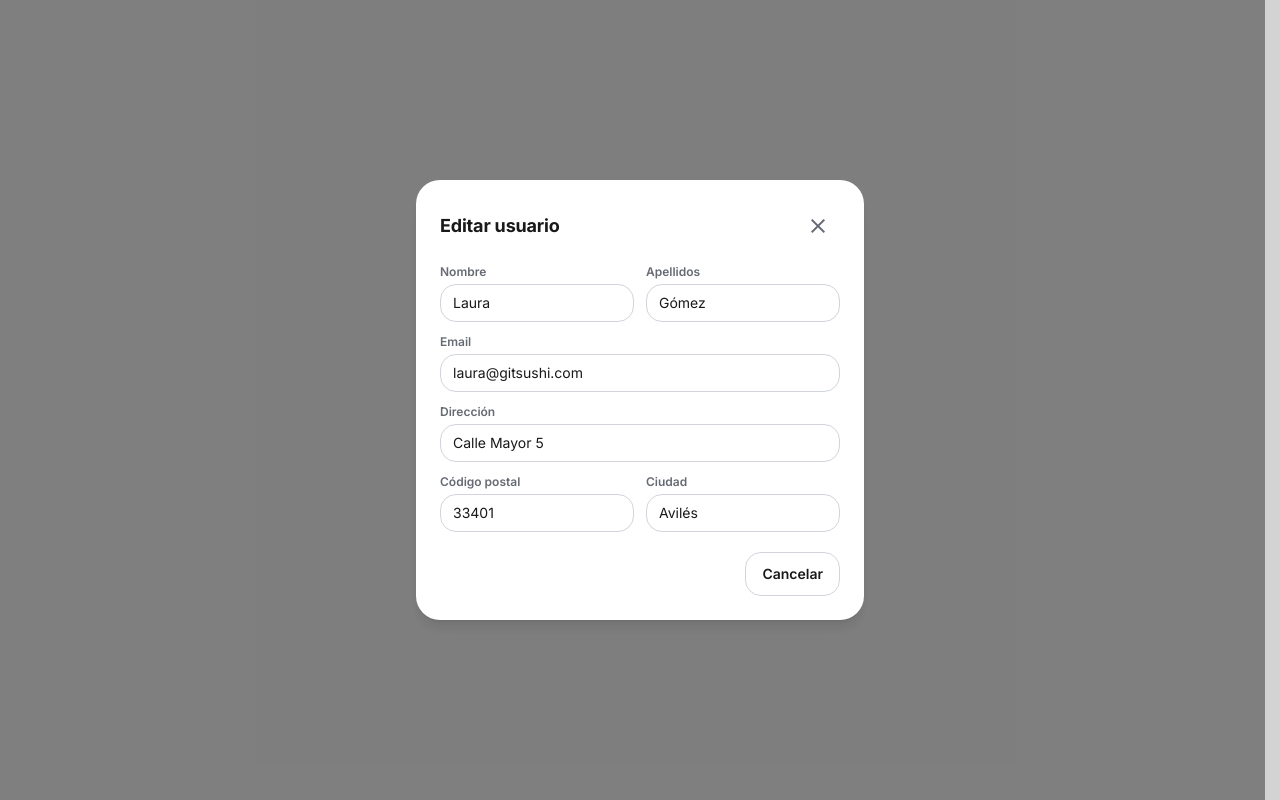
Test: UserFormModal › solo muestra "Guardar cambios" cuando algo ha cambiado
Replace the text in the field with id "user-first-name" with "Lucía": (537, 303) [440, 284, 634, 322]
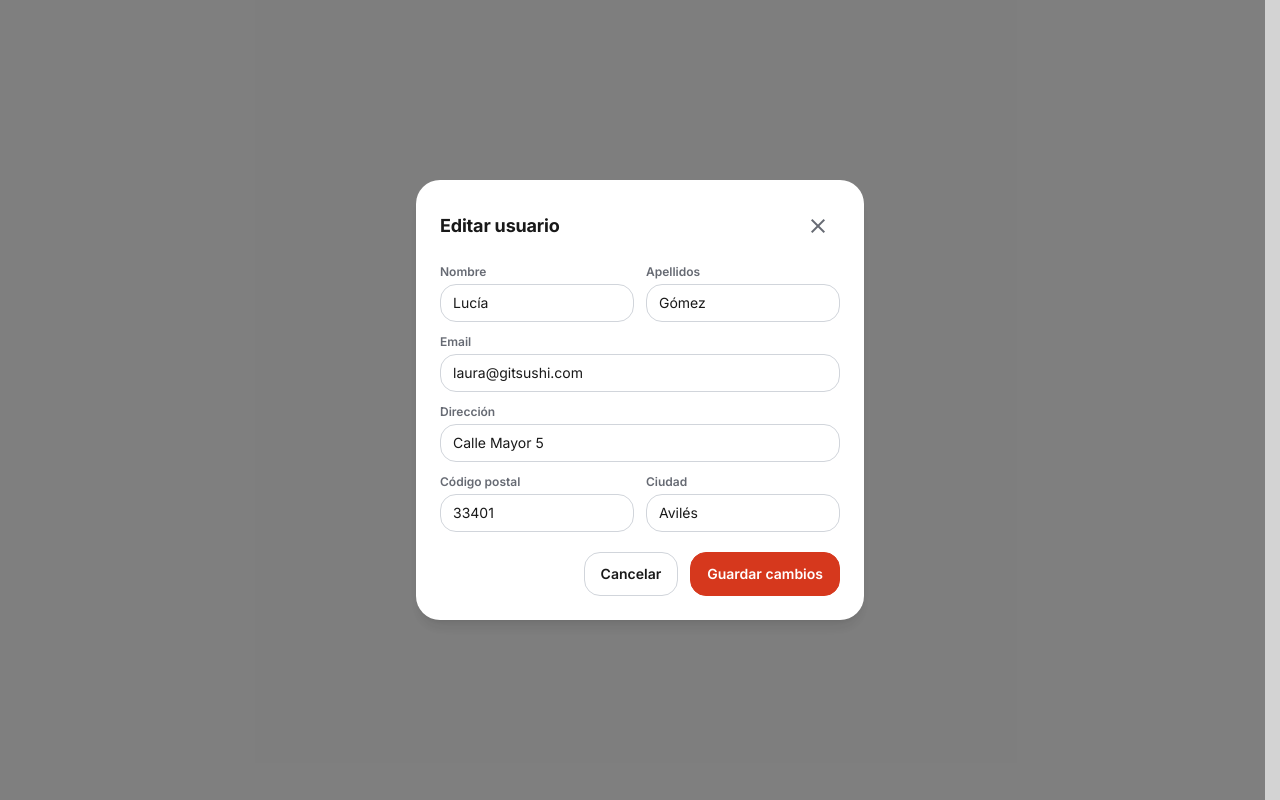
Expected: the submit button reads "Guardar cambios", [690, 552, 840, 596]
